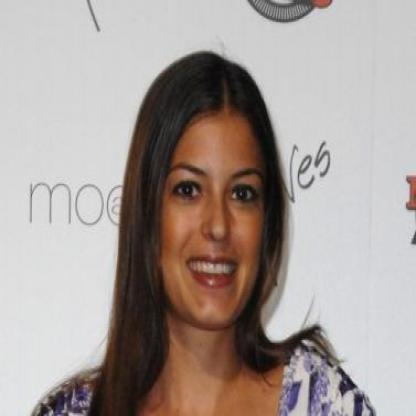long-hair: (88, 330, 292, 376)
